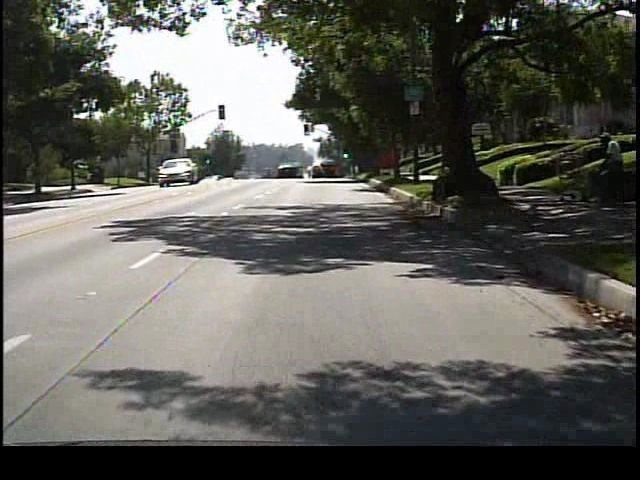person: (590, 129, 627, 215)
